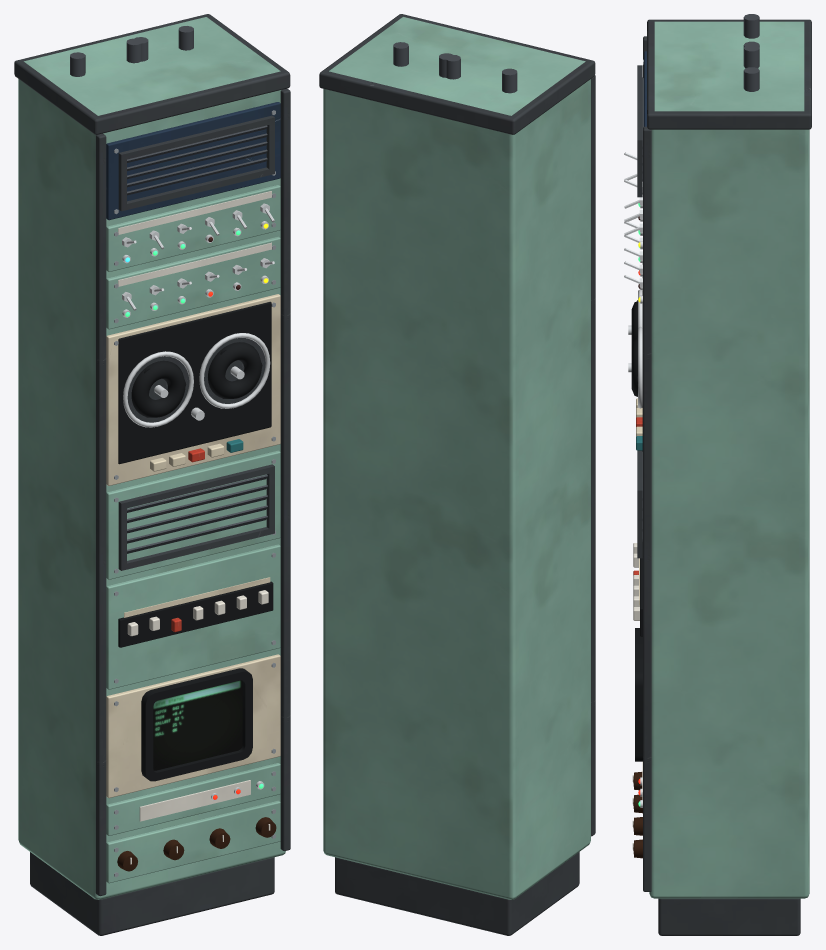
The model's file is Rack_50_4.glb.
3 renders of one model, left to right at view 1: azimuth 30°, elevation 25°; view 2: azimuth 150°, elevation 25°; view 3: azimuth 270°, elevation 25°, orthographic.
Parts seen in each view (by area): view 1: Rack_50_4_Body; view 2: Rack_50_4_Body; view 3: Rack_50_4_Body.
Boxes of the visible parts, box(x1,y1,x2,y2) form: Rack_50_4_Body: box(14, 14, 290, 935); Rack_50_4_Body: box(319, 14, 595, 935); Rack_50_4_Body: box(624, 14, 811, 935).
Size of the model in its own units: 0.51 by 2.1 by 0.4216.
19 materials, 8 textured.
